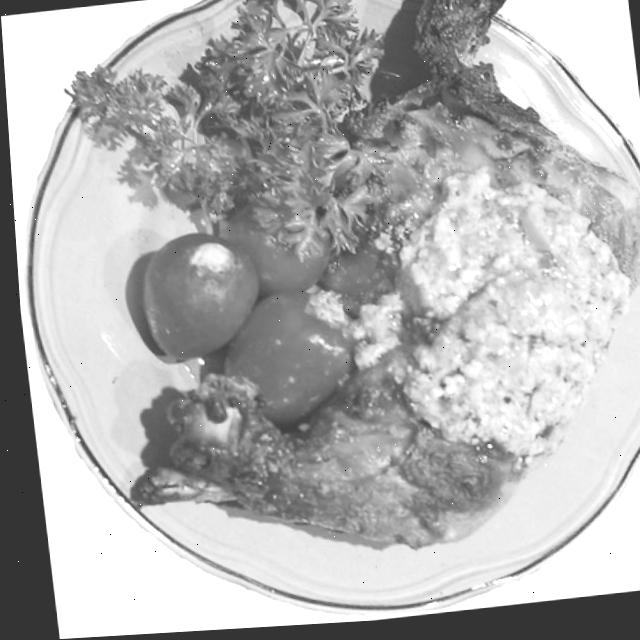鸡肉料理 含炸鸡: (41, 0, 640, 612)
